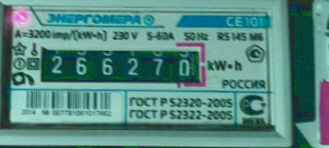0: (175, 55, 189, 75)
2: (48, 52, 61, 73), (125, 55, 138, 75)
6: (99, 54, 112, 74), (73, 53, 85, 74)
7: (151, 55, 161, 74)
screen: (27, 35, 211, 91)
